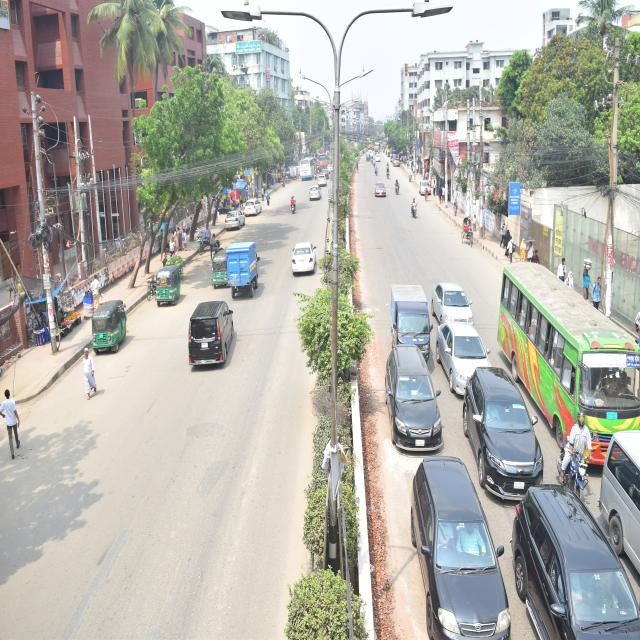bus: (488, 241, 640, 459), (298, 154, 316, 186), (316, 150, 330, 174)
car: (395, 447, 512, 640), (508, 476, 640, 640), (459, 360, 552, 490), (376, 333, 462, 461), (435, 314, 494, 392), (427, 259, 475, 331), (279, 232, 322, 296), (216, 200, 250, 237), (242, 198, 267, 228), (308, 179, 322, 216), (369, 177, 387, 198), (316, 170, 330, 188)
microbus: (594, 414, 640, 588), (179, 296, 253, 370)
motorbike: (547, 410, 597, 506), (405, 190, 421, 225), (204, 230, 222, 254), (288, 194, 298, 222), (384, 160, 393, 186), (390, 171, 399, 197)
pickup-van: (381, 277, 437, 366), (223, 234, 257, 300)
